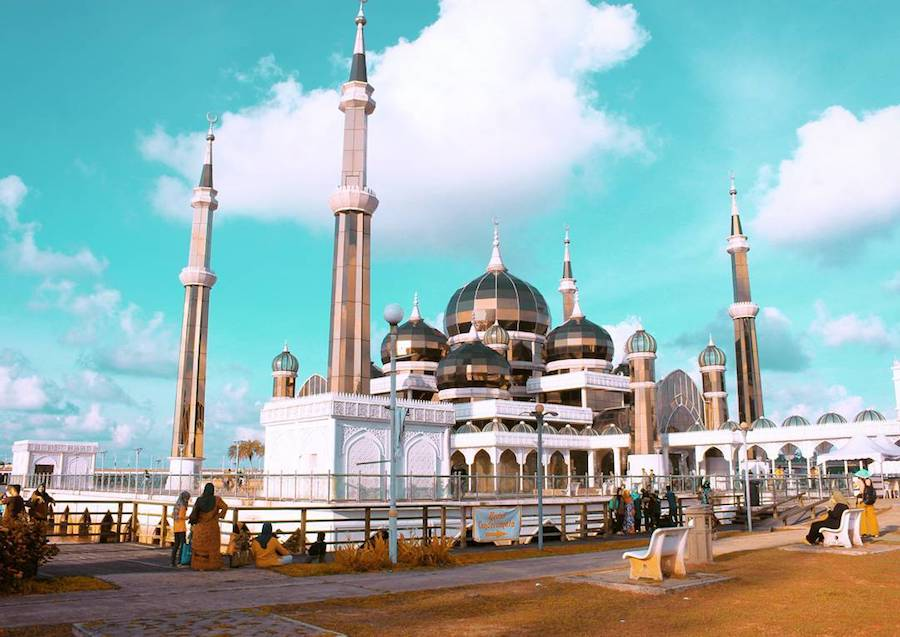Mosque: (161, 2, 762, 514)
